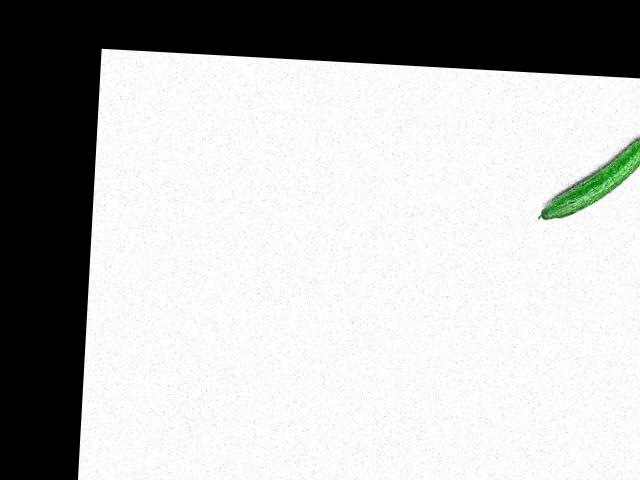cucumber: (536, 132, 640, 224)
